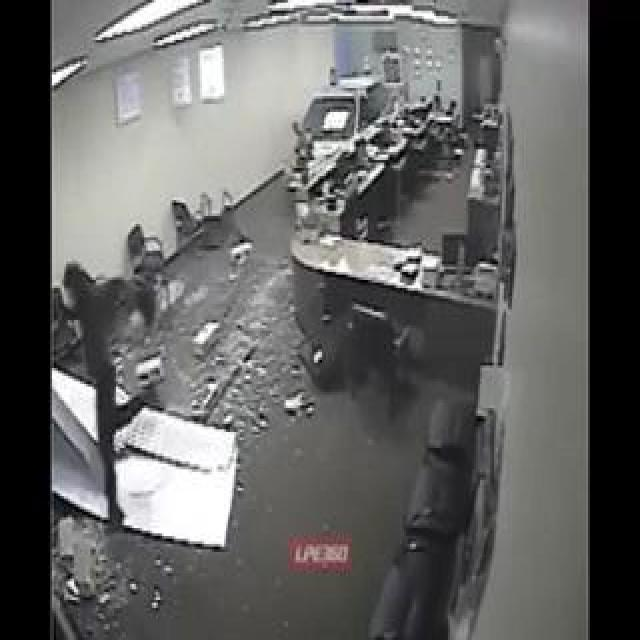thief: (70, 248, 109, 366)
